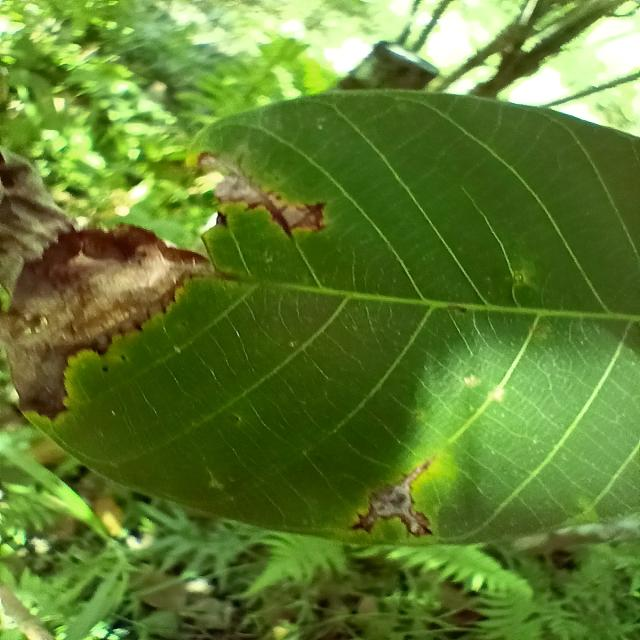Corynespora: (348, 458, 438, 538), (244, 192, 328, 244)
Leaf-Blight: (0, 145, 212, 420), (198, 152, 269, 207)
